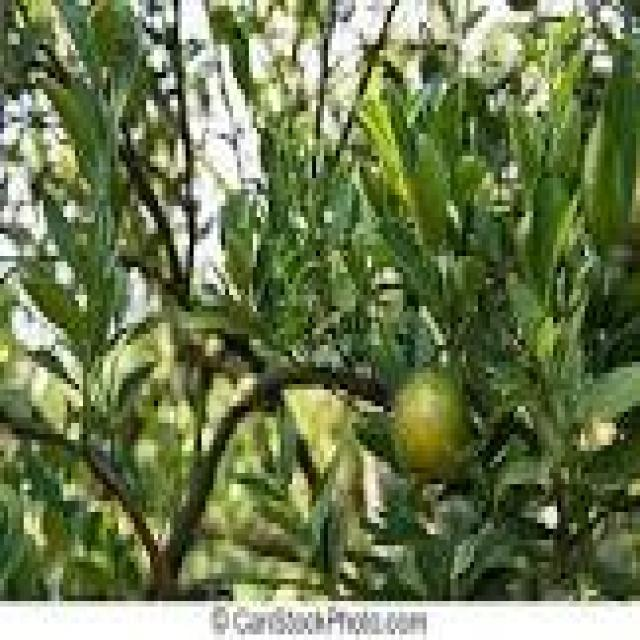orange: (391, 367, 466, 479)
